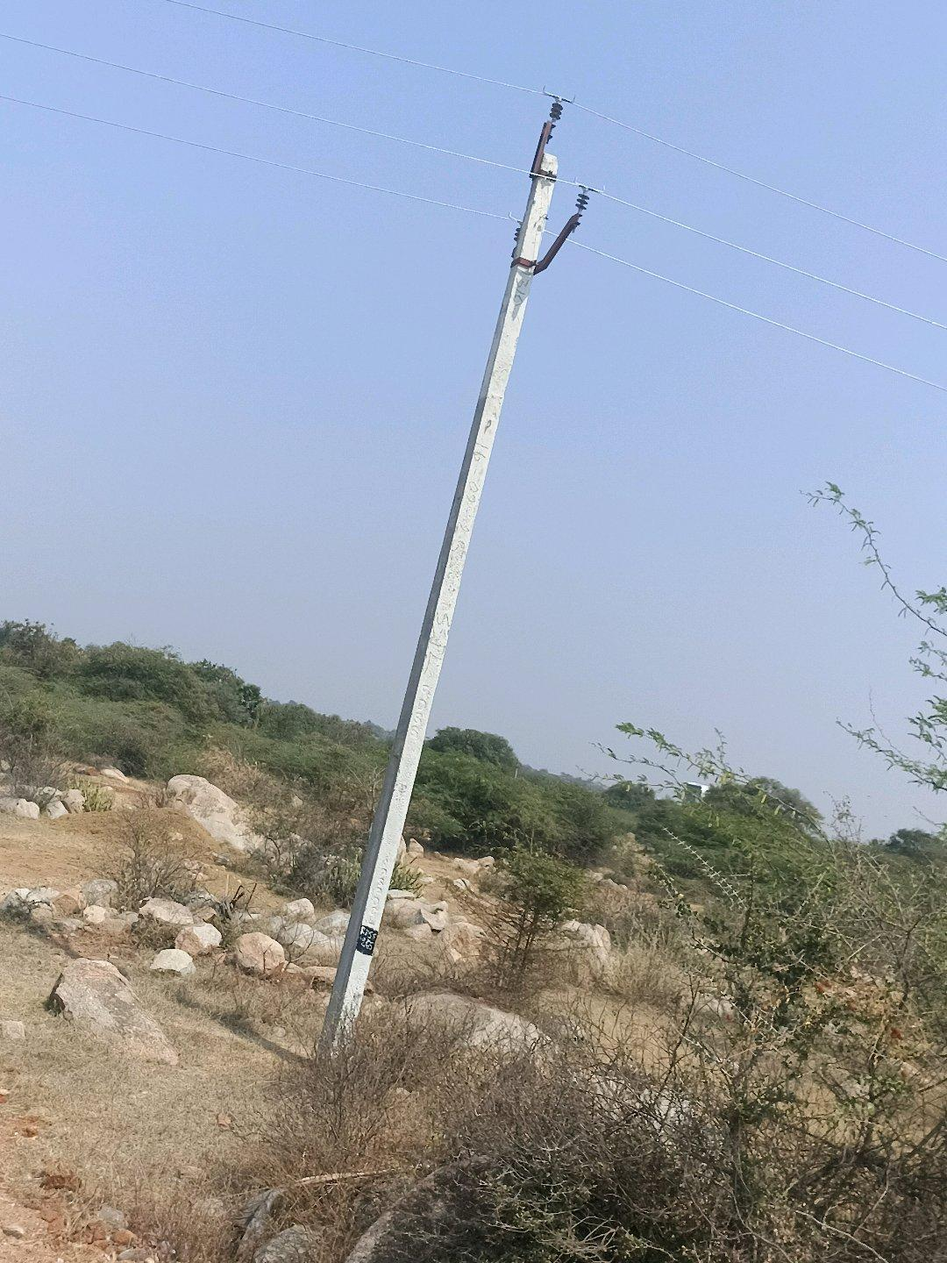{"0" "insulator", "1" "pole", "2" "crossarm", "3" "conductor", "4" "street_: (320, 100, 587, 1053)
